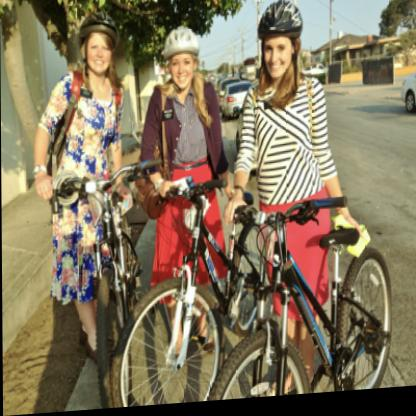With Helmet: (250, 0, 306, 85), (76, 11, 123, 79), (161, 24, 203, 96)
